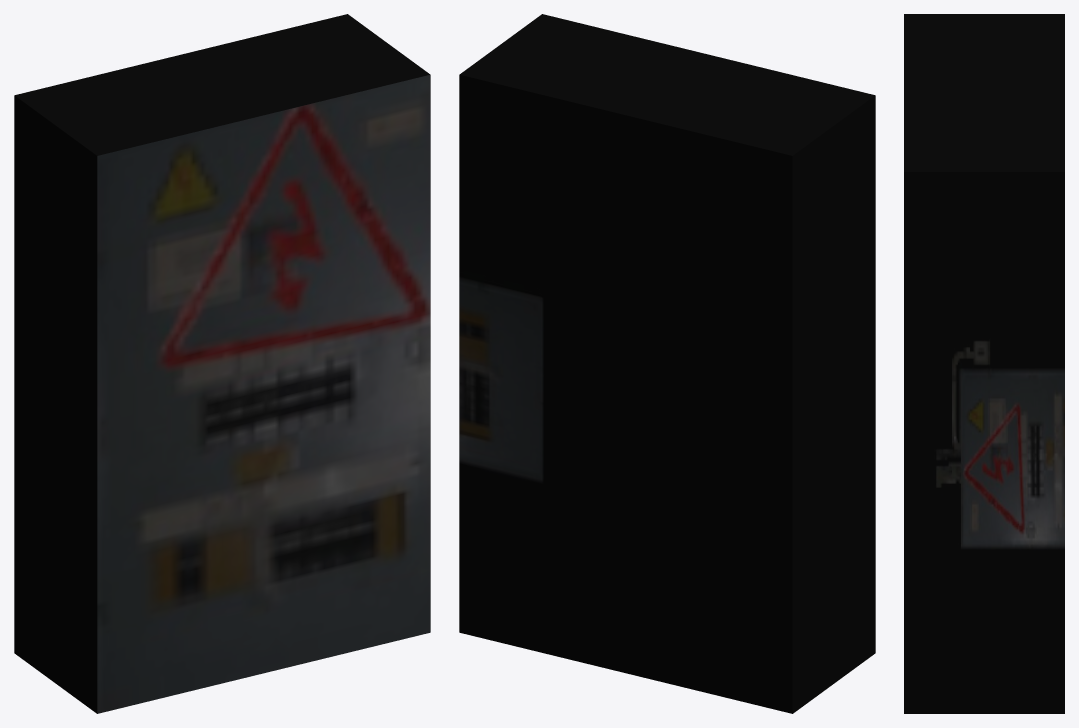
The model's file is puzzel.gltf.
3 views of the same model, side by side, from view 1: azimuth 30°, elevation 25°; view 2: azimuth 150°, elevation 25°; view 3: azimuth 270°, elevation 25° (orthographic). The views are drawn at different scales.
Parts seen in each view (by area): view 1: power_box; view 2: power_box; view 3: power_box.
Part boxes in pixels (left/top/right/bottom): power_box: left=14, top=14, right=430, bottom=713; power_box: left=459, top=14, right=875, bottom=713; power_box: left=904, top=14, right=1064, bottom=713.
Size of the model in its own units: 0.6253 by 1 by 0.2692.
1 material, 1 textured.
